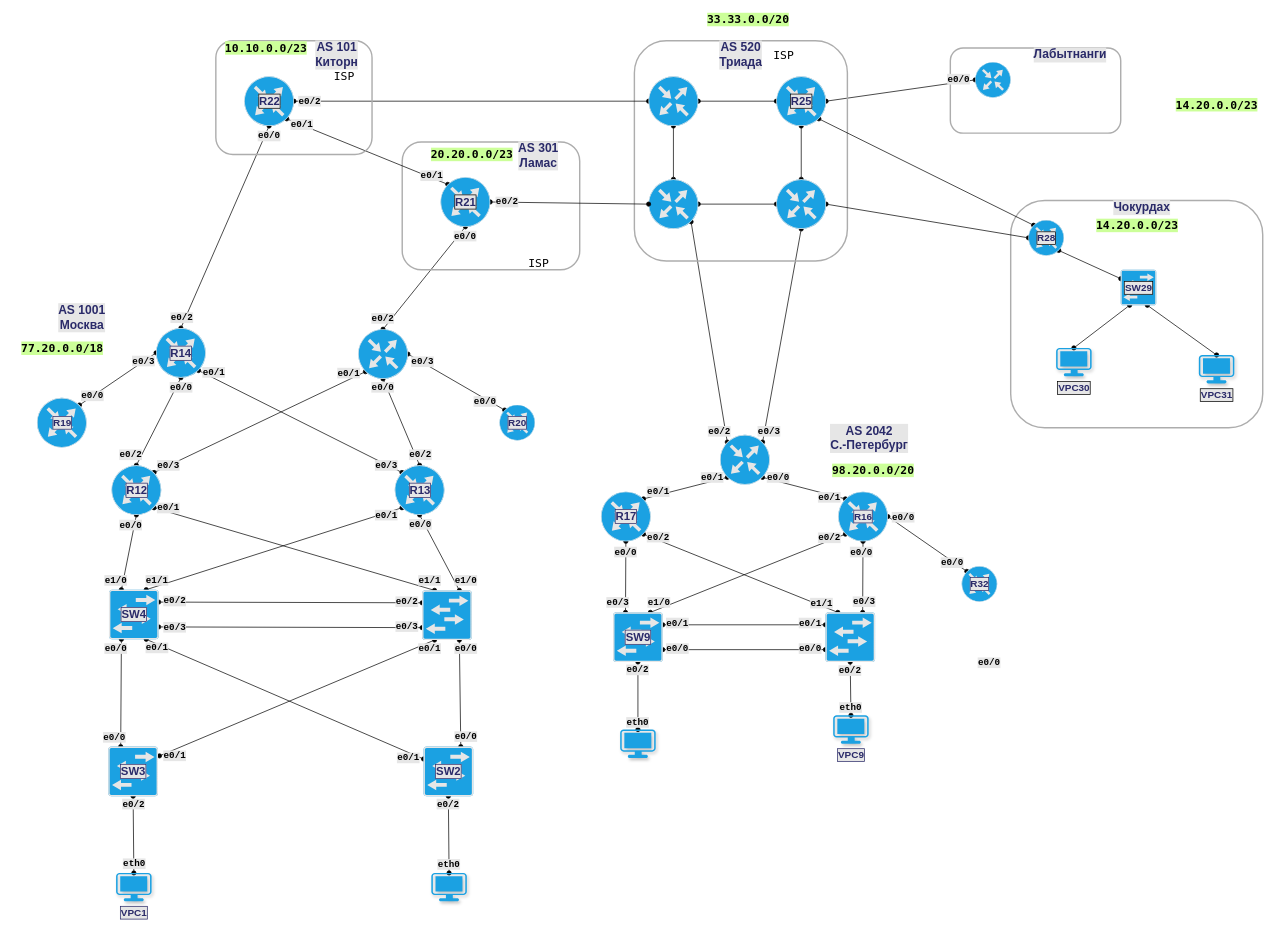
The diagram is 1279 pixels wide and 932 high, and some of its shapes have lost their labels. Here are the shapes that lost their labels. From the top down, the centre of each, then its label:
point 992,79: R27
point 673,101: R23
point 673,204: R24
point 801,204: R26
point 382,354: R15
point 744,459: R18
point 446,615: SW5
point 850,637: SW10
point 638,744: VPC8
point 449,888: VPC7
